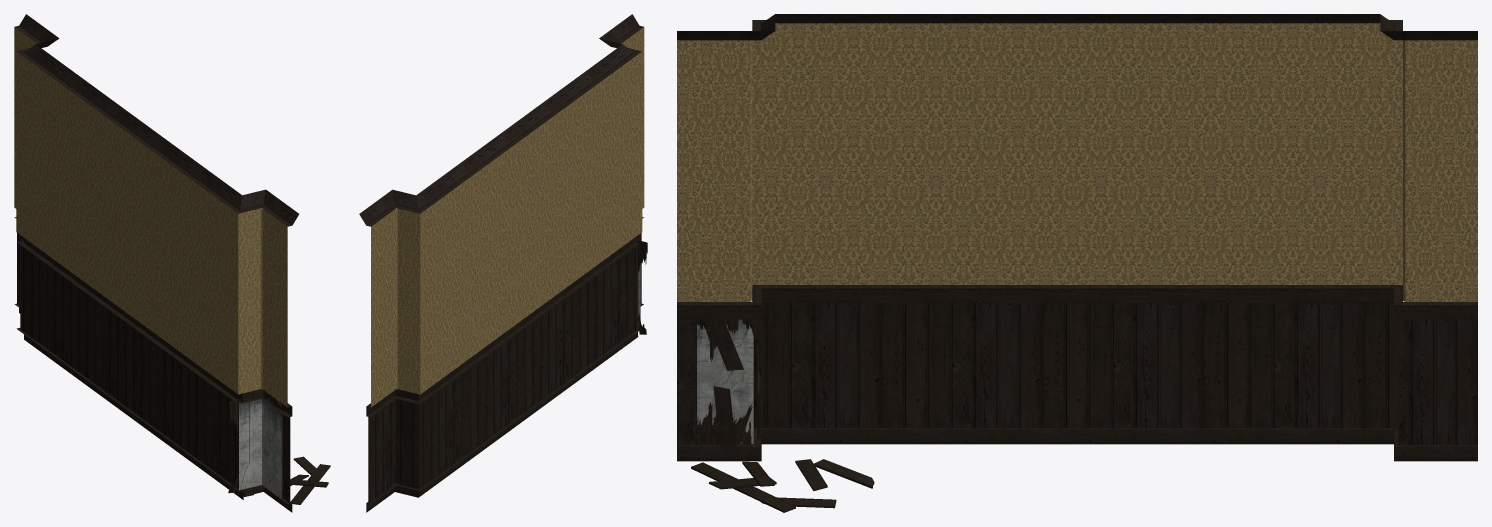
Rendered from #LVL_Wall_CleanB02.fbx.
The picture shows the model from 3 angles, left to right: view 1: azimuth 30°, elevation 25°; view 2: azimuth 150°, elevation 25°; view 3: azimuth 270°, elevation 25°; orthographic projection. The views are drawn at different scales.
Parts seen in each view (by area): view 1: Cube_004; view 2: Cube_004; view 3: Cube_004.
Boxes of the visible parts, bbox=[...] form: Cube_004: bbox=[14, 14, 330, 512]; Cube_004: bbox=[359, 14, 647, 512]; Cube_004: bbox=[677, 14, 1477, 512].
Size of the model in its own units: 4.76 by 12.02 by 20.
